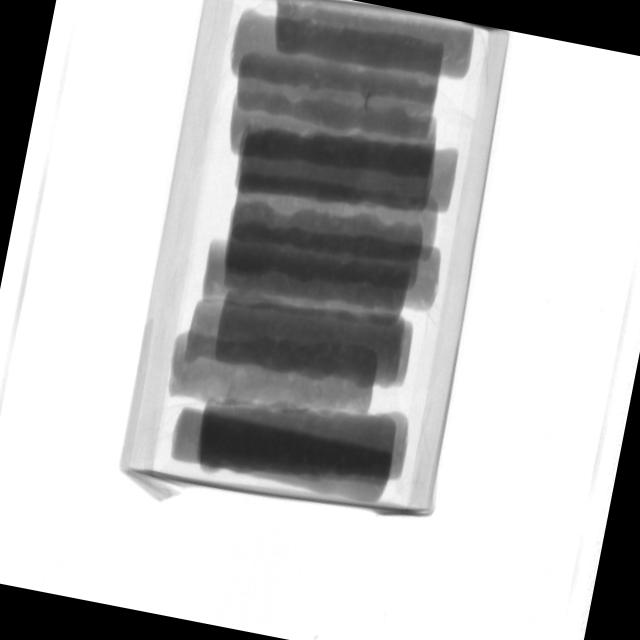ym: (363, 94, 374, 114)
